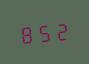eight: (18, 22, 34, 44)
five: (36, 20, 52, 43)
two: (53, 19, 69, 41)
